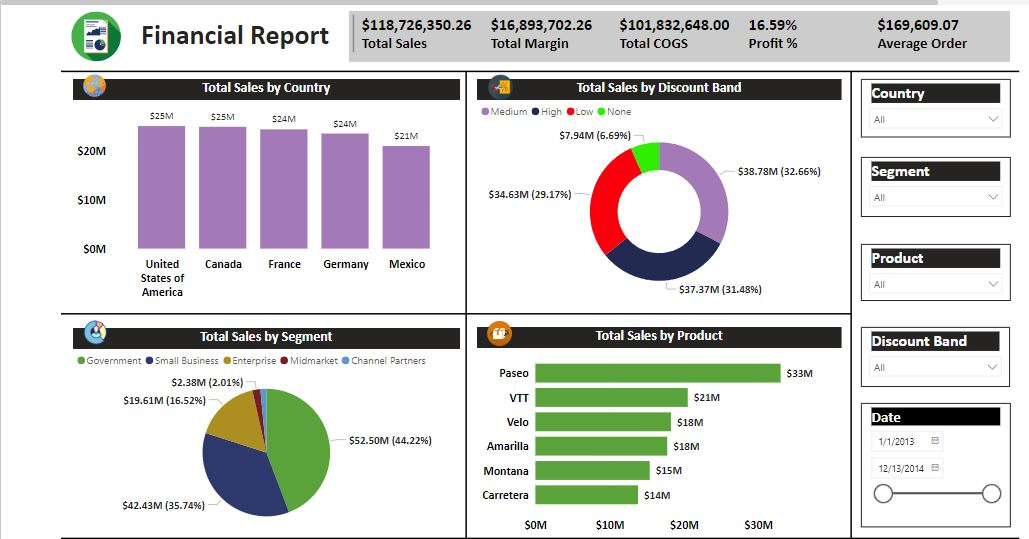

This screenshot's page, from the dashboard's own definition file:
{"tool":"powerbi","page":{"name":"Report 1","canvas":[1280,720],"ordinal":0},"visuals":[{"type":"textbox","box":[80.5,11.3,304.9,69.2],"z":0},{"type":"image","box":[0,4.3,94.2,75.6],"z":1000},{"type":"multiRowCard","fields":{"Values":["All Measures.Total Sales","All Measures.Total Margin","All Measures.Total COGS","All Measures.Profit %","All Measures.Average Order"]},"box":[385.3,8.6,883.3,68.5],"z":2000},{"type":"shape","box":[0,79.9,1280,17.1],"z":3000},{"type":"columnChart","fields":{"Category":["financials.Country"],"Y":["All Measures.Total Sales"]},"box":[15.7,98.5,516.6,302.5],"z":4000},{"type":"slicer","fields":{"Values":["financials.Country"]},"box":[1068.7,98.8,200.5,77.6],"z":5000},{"type":"pieChart","fields":{"Category":["financials.Segment"],"Y":["All Measures.Total Sales"]},"box":[15.7,430.9,516.6,281.1],"z":6000},{"type":"clusteredBarChart","fields":{"Category":["financials.Product"],"Y":["All Measures.Total Sales"]},"box":[555.1,429.5,486.6,282.5],"z":7000},{"type":"donutChart","fields":{"Y":["All Measures.Total Sales"],"Category":["financials.Discount Band"]},"box":[555.1,98.5,486.6,302.5],"z":8000},{"type":"slicer","fields":{"Values":["financials.Segment"]},"box":[1068.7,203.3,200.5,80.5],"z":9000},{"type":"slicer","fields":{"Values":["financials.Product"]},"box":[1068.7,319.1,200.5,76.2],"z":10000},{"type":"slicer","fields":{"Values":["financials.Discount Band"]},"box":[1068.7,430.6,199.1,80.5],"z":11000},{"type":"shape","box":[0,395.3,1056,34.2],"z":12000},{"type":"shape","box":[1041.7,88.5,27.1,623.6],"z":13000},{"type":"shape","box":[0,703.5,1280,17.1],"z":14000},{"type":"shape","box":[528,88.5,27.1,623.6],"z":15000},{"type":"slicer","fields":{"Values":["Date.Date"]},"box":[1068.8,532.3,199.8,165.5],"z":16000},{"type":"image","box":[21.4,79.9,47.1,55.7],"z":17000},{"type":"image","box":[555.1,88.5,62.8,42.8],"z":18000},{"type":"image","box":[25.7,412.4,42.8,49.9],"z":19000},{"type":"image","box":[562.2,415.3,47.1,47.1],"z":20000}]}

Visuals, with their boxes on the page's 1280x720 design canvas (x1, y1, x2, y2). These are canvas units, not pixel positions in the 1029x539 screenshot, which may show the page scaled, cropped or inside an application window:
textbox: x1=80, y1=11, x2=385, y2=80
image: x1=0, y1=4, x2=94, y2=80
multiRowCard - All Measures.Total Sales x All Measures.Total Margin: x1=385, y1=9, x2=1269, y2=77
shape: x1=0, y1=80, x2=1280, y2=97
columnChart - financials.Country x All Measures.Total Sales: x1=16, y1=98, x2=532, y2=401
slicer - financials.Country: x1=1069, y1=99, x2=1269, y2=176
pieChart - financials.Segment x All Measures.Total Sales: x1=16, y1=431, x2=532, y2=712
clusteredBarChart - financials.Product x All Measures.Total Sales: x1=555, y1=430, x2=1042, y2=712
donutChart - All Measures.Total Sales x financials.Discount Band: x1=555, y1=98, x2=1042, y2=401
slicer - financials.Segment: x1=1069, y1=203, x2=1269, y2=284
slicer - financials.Product: x1=1069, y1=319, x2=1269, y2=395
slicer - financials.Discount Band: x1=1069, y1=431, x2=1268, y2=511
shape: x1=0, y1=395, x2=1056, y2=430
shape: x1=1042, y1=88, x2=1069, y2=712
shape: x1=0, y1=704, x2=1280, y2=721
shape: x1=528, y1=88, x2=555, y2=712
slicer - Date.Date: x1=1069, y1=532, x2=1269, y2=698
image: x1=21, y1=80, x2=68, y2=136
image: x1=555, y1=88, x2=618, y2=131
image: x1=26, y1=412, x2=68, y2=462
image: x1=562, y1=415, x2=609, y2=462
